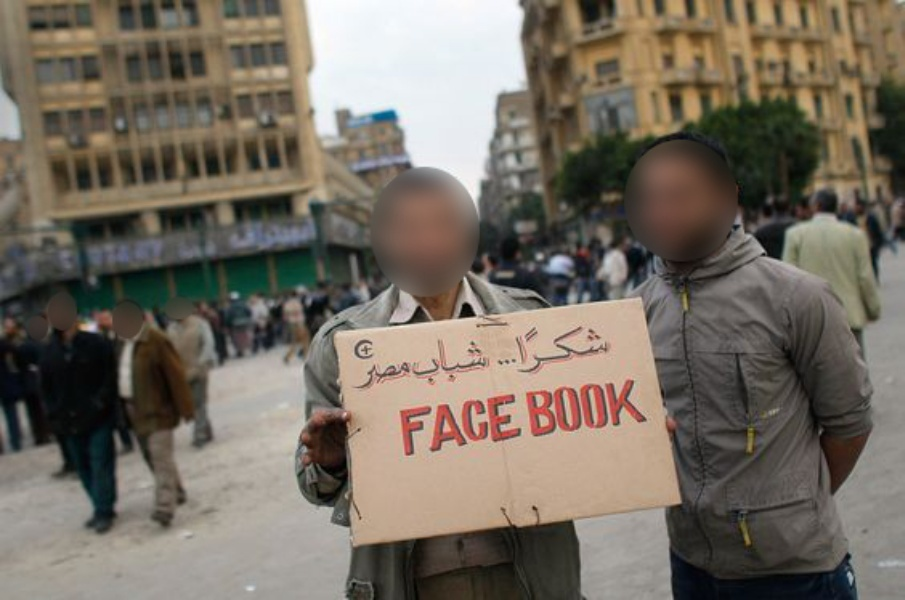text: (401, 392, 416, 458), (417, 392, 432, 458), (433, 392, 448, 458), (449, 392, 464, 458), (465, 392, 480, 458), (481, 392, 496, 458), (497, 392, 512, 458), (529, 378, 544, 437), (545, 378, 560, 437), (561, 378, 576, 437), (577, 378, 592, 437), (593, 378, 608, 437), (609, 378, 624, 437), (625, 378, 640, 437), (497, 321, 512, 379), (513, 321, 528, 379), (529, 321, 544, 379), (545, 321, 560, 379), (561, 321, 576, 379), (577, 321, 592, 379), (593, 321, 608, 379), (417, 334, 432, 387), (433, 334, 448, 387), (449, 334, 464, 387), (465, 334, 480, 387), (513, 392, 525, 458), (241, 214, 256, 256), (257, 214, 272, 256), (273, 214, 288, 256), (289, 214, 304, 256), (305, 214, 320, 256), (353, 357, 368, 395), (369, 357, 384, 395), (385, 357, 400, 395), (227, 214, 240, 256), (481, 334, 490, 387), (401, 357, 411, 395), (641, 378, 646, 437), (411, 334, 416, 387), (524, 378, 528, 437), (347, 357, 352, 395), (398, 392, 400, 458), (609, 321, 610, 379)
